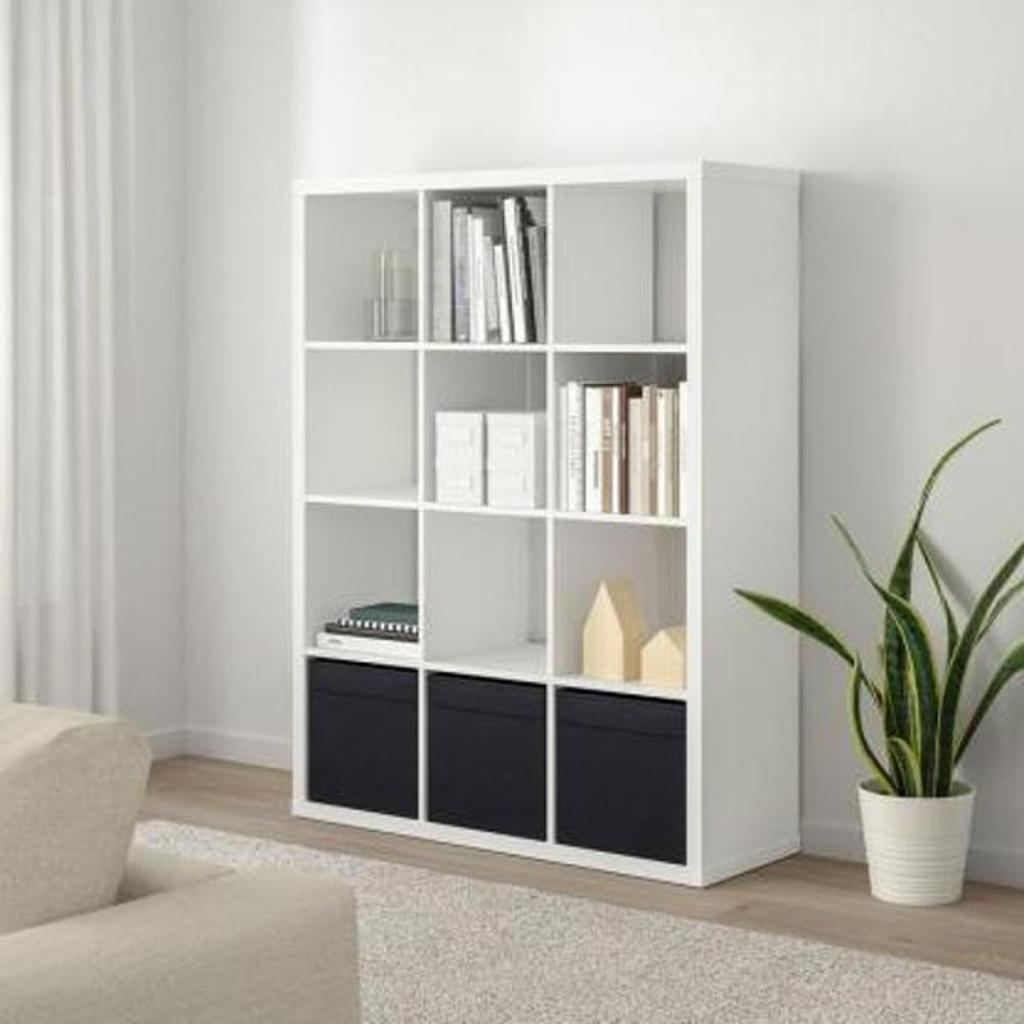lamp: (286, 154, 802, 892)
